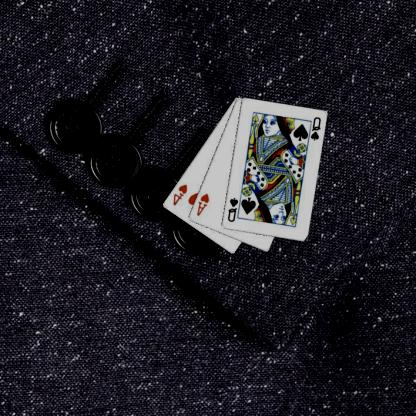4H: (172, 181, 190, 207)
AH: (196, 191, 212, 217)
QS: (227, 195, 241, 223), (310, 115, 324, 142)
